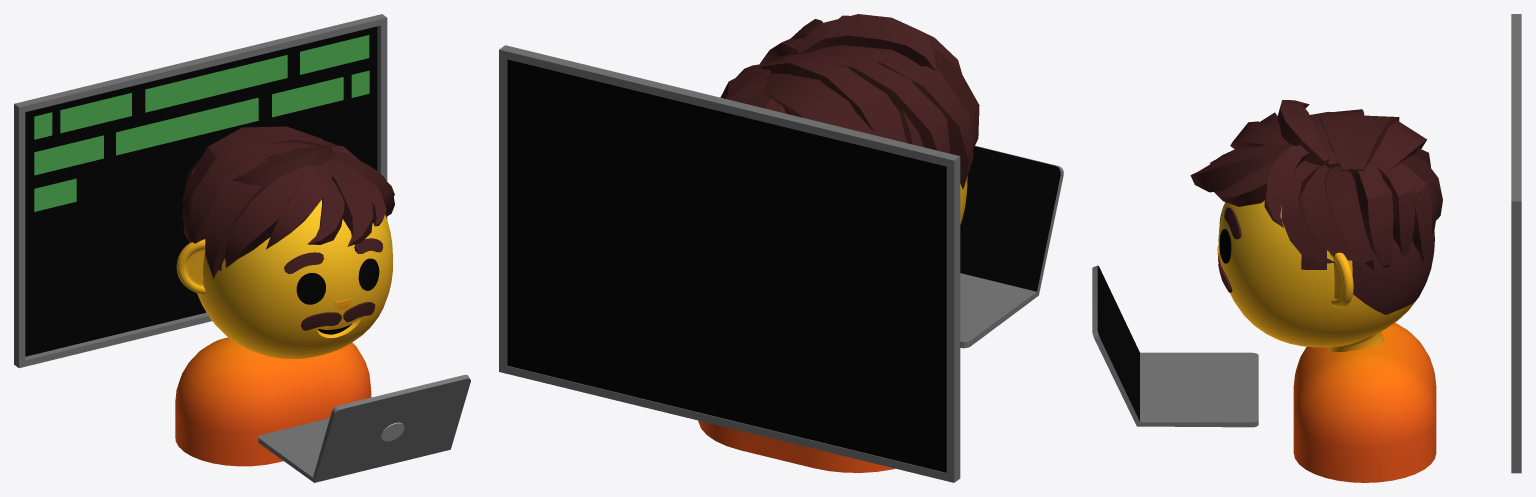
File: man_technologist.fbx
3 renders of one model, left to right at view 1: azimuth 30°, elevation 25°; view 2: azimuth 150°, elevation 25°; view 3: azimuth 270°, elevation 25°, orthographic. The views are drawn at different scales.
Parts seen in each view (by area): view 1: Plane.059, Cube.1475, Sphere.077, Roundcube.117, Plane.062, Circle.690, Cylinder.101, Circle.693, Circle.692; view 2: Plane.059, Cube.1475, Plane.062, Sphere.077; view 3: Cube.1475, Sphere.077, Roundcube.117, Plane.062, Plane.059, Cylinder.101.
Part boxes in pixels (bbox=[...]): Plane.059: bbox=[14, 14, 387, 368]; Cube.1475: bbox=[182, 126, 394, 278]; Sphere.077: bbox=[175, 337, 371, 466]; Roundcube.117: bbox=[197, 200, 392, 359]; Plane.062: bbox=[258, 374, 470, 482]; Circle.690: bbox=[296, 258, 379, 304]; Cylinder.101: bbox=[176, 239, 205, 294]; Circle.693: bbox=[301, 302, 375, 330]; Circle.692: bbox=[284, 238, 383, 274]; Plane.059: bbox=[499, 45, 960, 482]; Cube.1475: bbox=[720, 14, 979, 189]; Plane.062: bbox=[960, 145, 1063, 348]; Sphere.077: bbox=[698, 420, 894, 472]; Cube.1475: bbox=[1190, 100, 1442, 269]; Sphere.077: bbox=[1293, 323, 1436, 482]; Roundcube.117: bbox=[1218, 161, 1434, 352]; Plane.062: bbox=[1092, 265, 1258, 427]; Plane.059: bbox=[1511, 14, 1521, 473]; Cylinder.101: bbox=[1330, 252, 1353, 307].
Size of the model in its own units: 311 by 255 by 301.
Materials: 2 (2 with a texture image).
